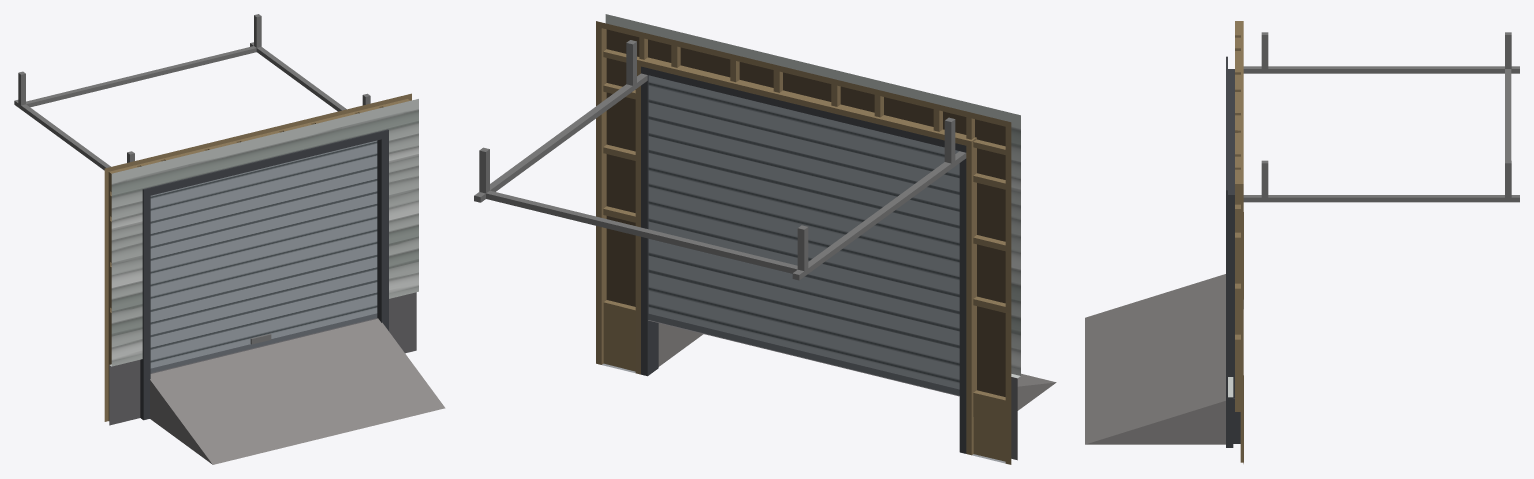
Rendered from SM_Bld_House_Wall_GarageDoor_02.fbx.
3 views of the same model, side by side, from view 1: azimuth 30°, elevation 25°; view 2: azimuth 150°, elevation 25°; view 3: azimuth 270°, elevation 25° (orthographic). The views are drawn at different scales.
Parts seen in each view (by area): view 1: SM_Bld_House_ExteriorWall_GarageDoor_01, SM_Bld_House_Wall_GarageDoor_02; view 2: SM_Bld_House_Wall_GarageDoor_02, SM_Bld_House_ExteriorWall_GarageDoor_01; view 3: SM_Bld_House_ExteriorWall_GarageDoor_01.
Part boxes in pixels (x1,y1,x2,y2): SM_Bld_House_ExteriorWall_GarageDoor_01: (14,14,445,464); SM_Bld_House_Wall_GarageDoor_02: (150,140,377,372); SM_Bld_House_Wall_GarageDoor_02: (648,75,959,395); SM_Bld_House_ExteriorWall_GarageDoor_01: (474,14,1056,464); SM_Bld_House_ExteriorWall_GarageDoor_01: (1085,21,1519,463).
Size of the model in its own units: 500 by 394 by 548.
